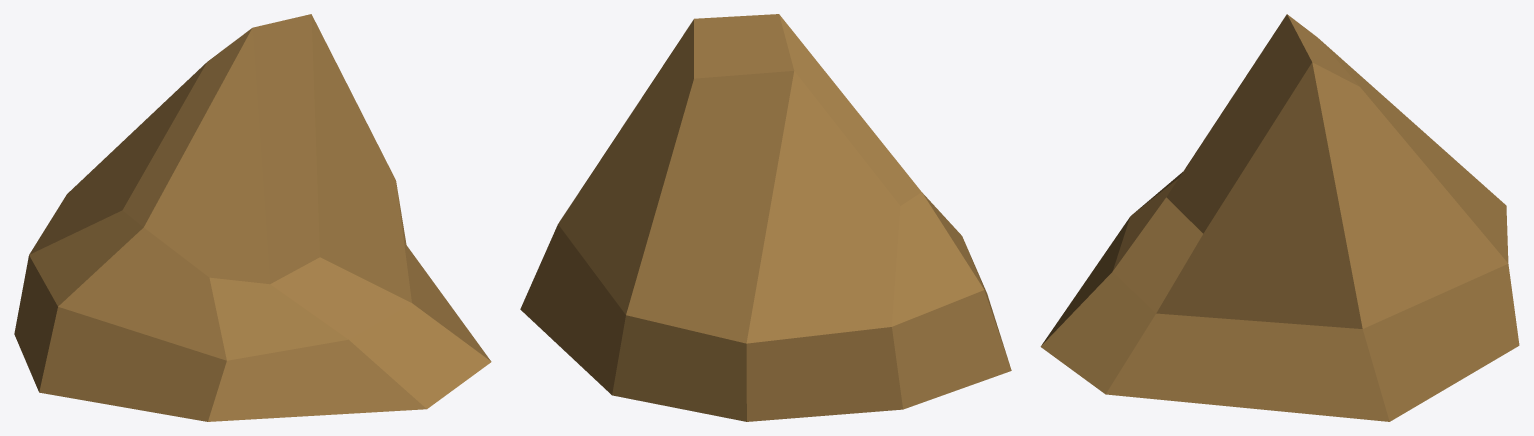
The model's file is MudRocks003.fbx.
The picture shows the model from 3 angles, left to right: view 1: azimuth 30°, elevation 25°; view 2: azimuth 150°, elevation 25°; view 3: azimuth 270°, elevation 25°; orthographic projection.
Parts seen in each view (by area): view 1: Cube.021; view 2: Cube.021; view 3: Cube.021.
Boxes of the visible parts, bbox=[...] form: Cube.021: bbox=[14, 14, 491, 421]; Cube.021: bbox=[520, 14, 1011, 421]; Cube.021: bbox=[1040, 14, 1519, 421].
Size of the model in its own units: 251 by 172 by 242.
